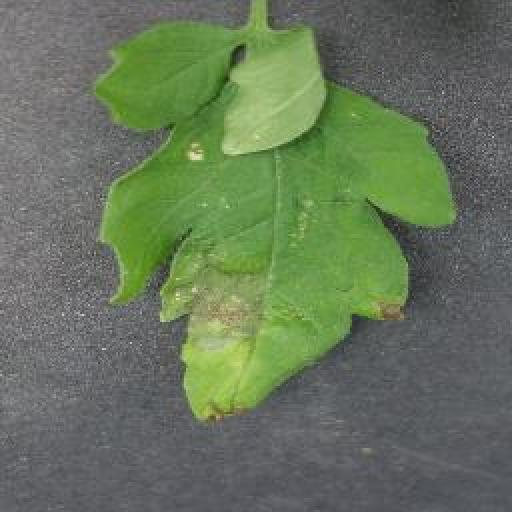Late Blight: (96, 23, 457, 417)
